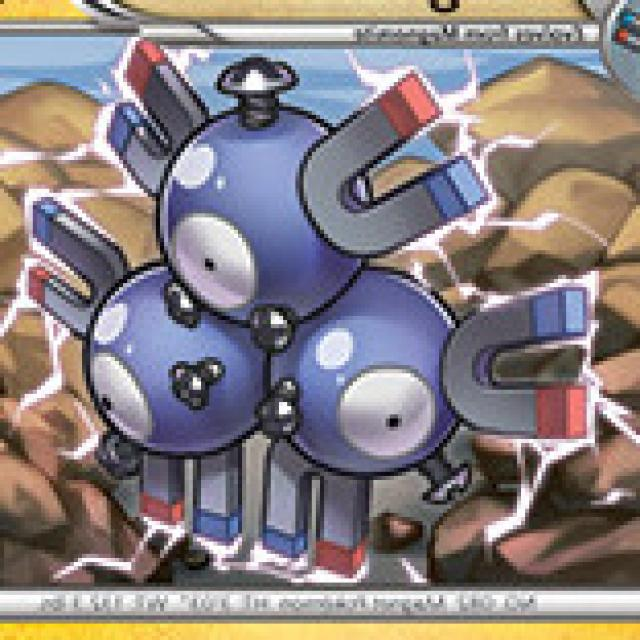Magneton: (39, 51, 522, 570)
